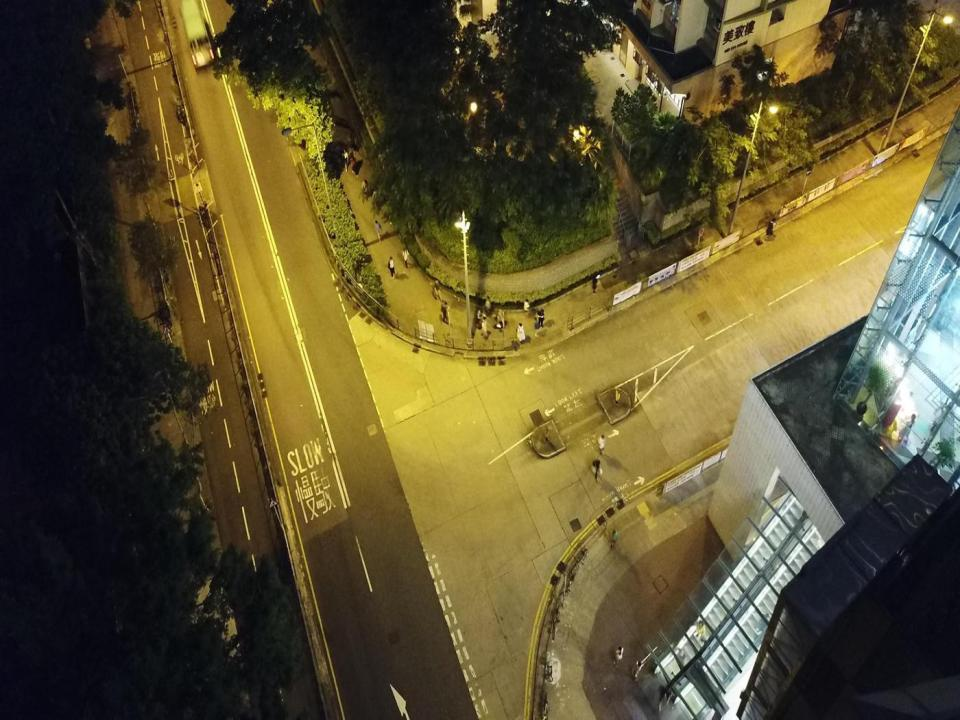bus: (178, 0, 215, 71)
